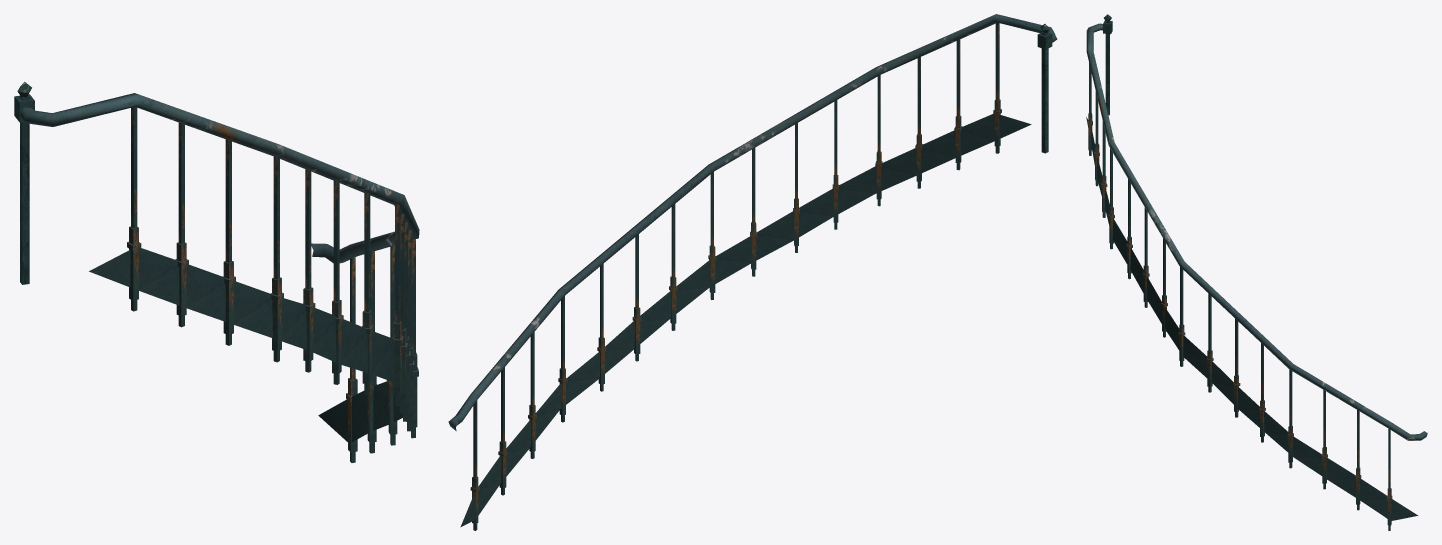
The model's file is lighthouse_stairs0b.glb.
3 renders of one model, left to right at view 1: azimuth 30°, elevation 25°; view 2: azimuth 150°, elevation 25°; view 3: azimuth 270°, elevation 25°, orthographic. The views are drawn at different scales.
Visible parts, largest first — view 1: lighthouse_stairs0b; view 2: lighthouse_stairs0b; view 3: lighthouse_stairs0b.
Boxes of the visible parts, box(x1,y1,x2,y2) form: lighthouse_stairs0b: box(14, 82, 419, 462); lighthouse_stairs0b: box(448, 14, 1057, 530); lighthouse_stairs0b: box(1086, 14, 1427, 530).
Bounding box in the file's own units: 2.83 × 3.16 × 2.66.
1 material, 1 textured.
